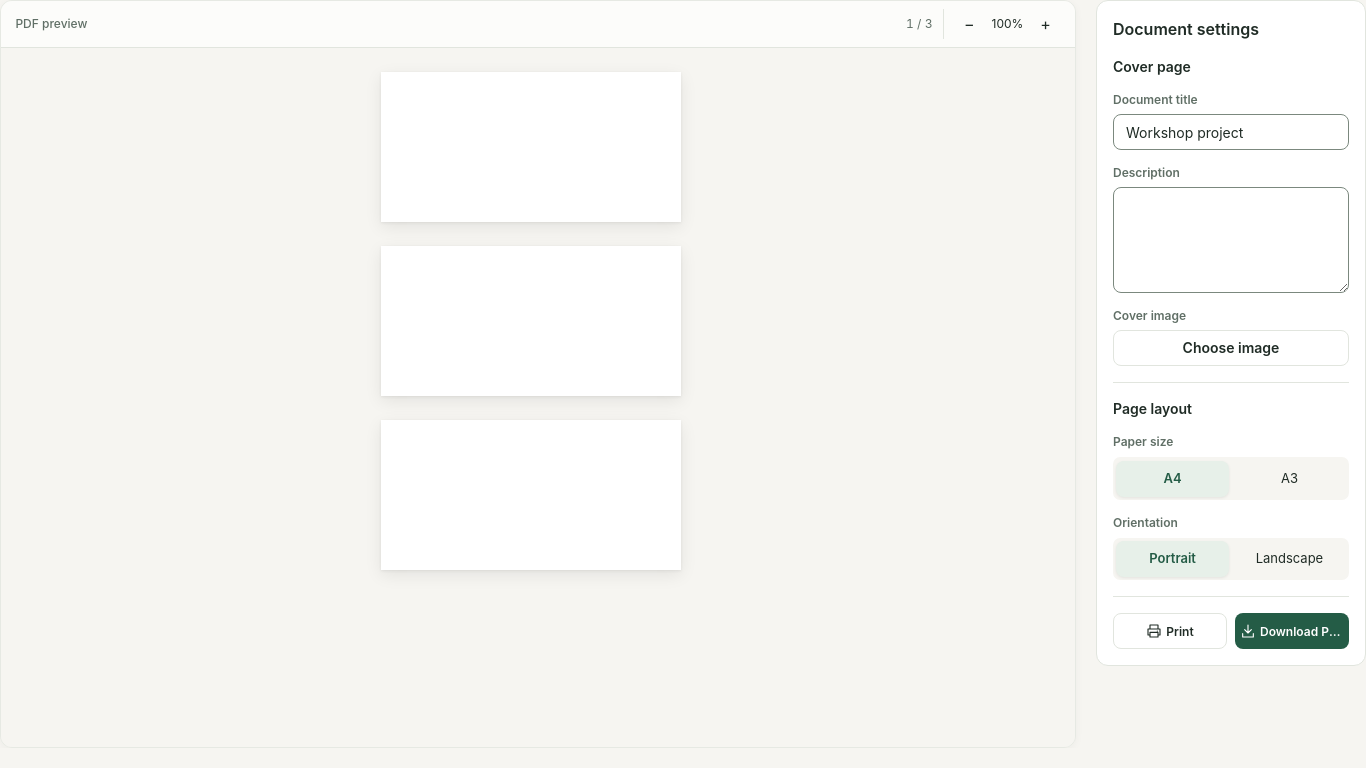
Test case: shows shared button loading and prevents duplicate print operations
Step 1. Click the button "Print" → x=1170, y=631, box x1=1113 y1=613 x2=1227 y2=649
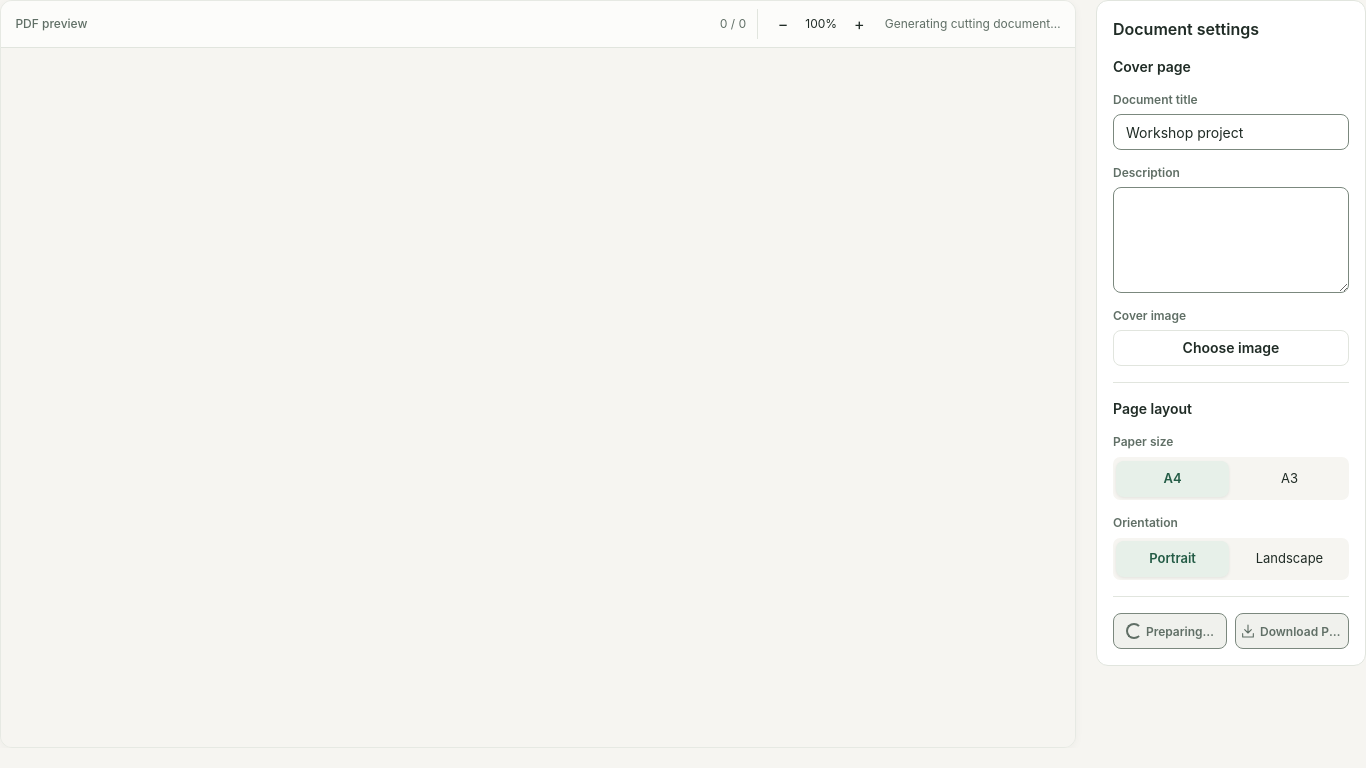
Now the button with class "button-spinner" is shown, box x1=1126 y1=623 x2=1142 y2=639
Now the button "Preparing…" is shown
Now the button "Preparing…" is disabled
Step 2. Click the button "Preparing…" → x=1170, y=631, box x1=1113 y1=613 x2=1227 y2=649
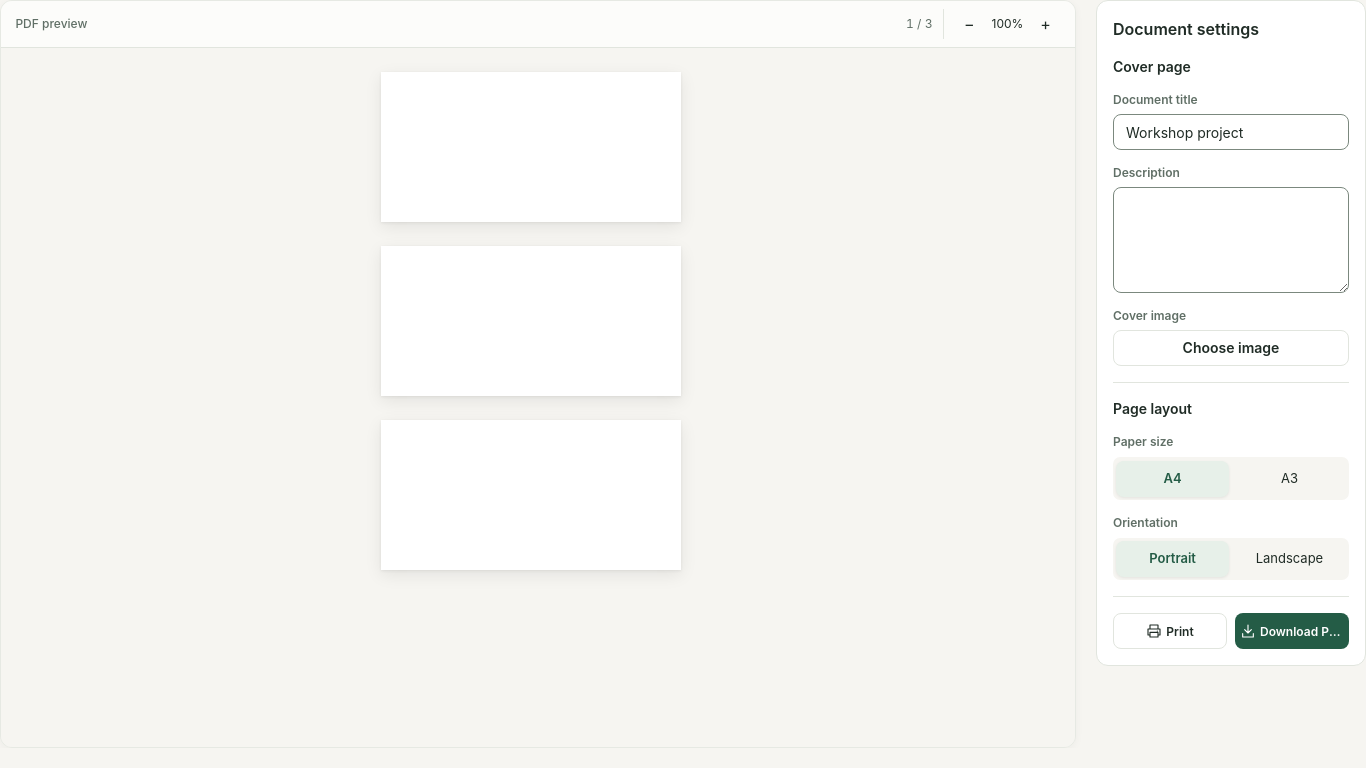
Now the button "Print" is shown, box x1=1113 y1=613 x2=1227 y2=649
Now the button "Print" is enabled, box x1=1113 y1=613 x2=1227 y2=649
